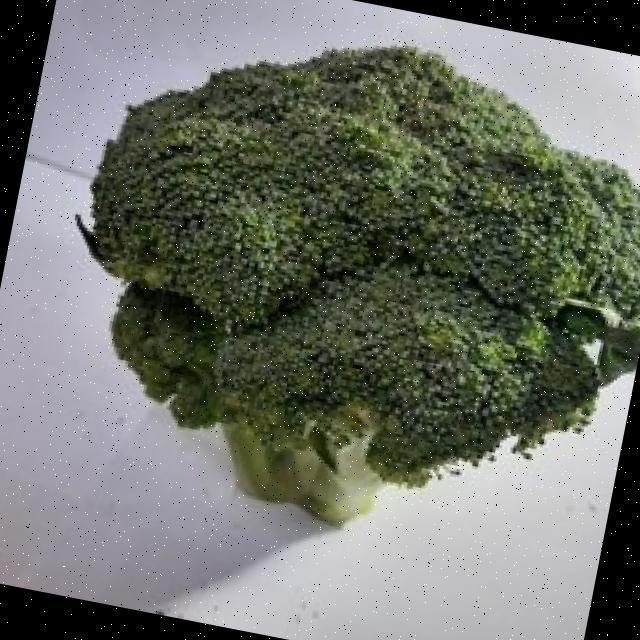Broccoli: (79, 47, 640, 523), (79, 47, 640, 523)
